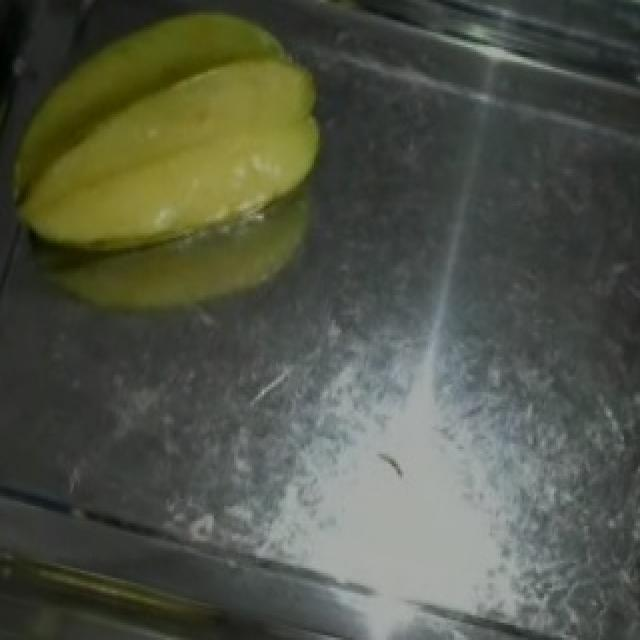fruit: (0, 0, 354, 303)
